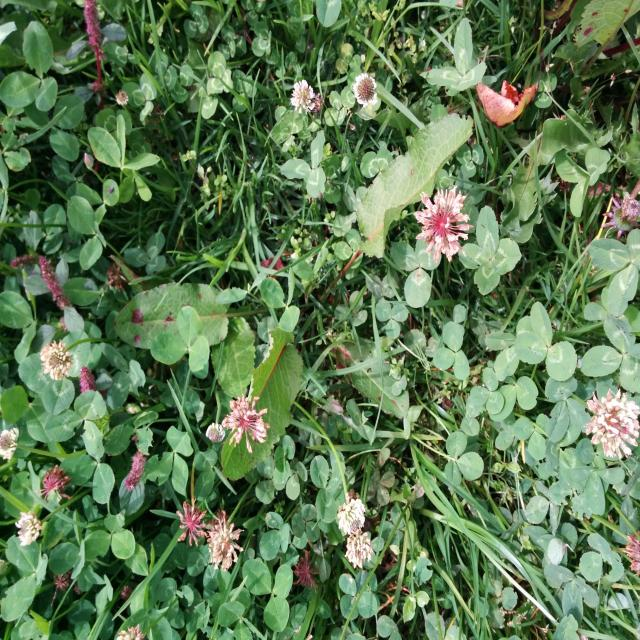Four Leaf Clover: (458, 205, 521, 296)
